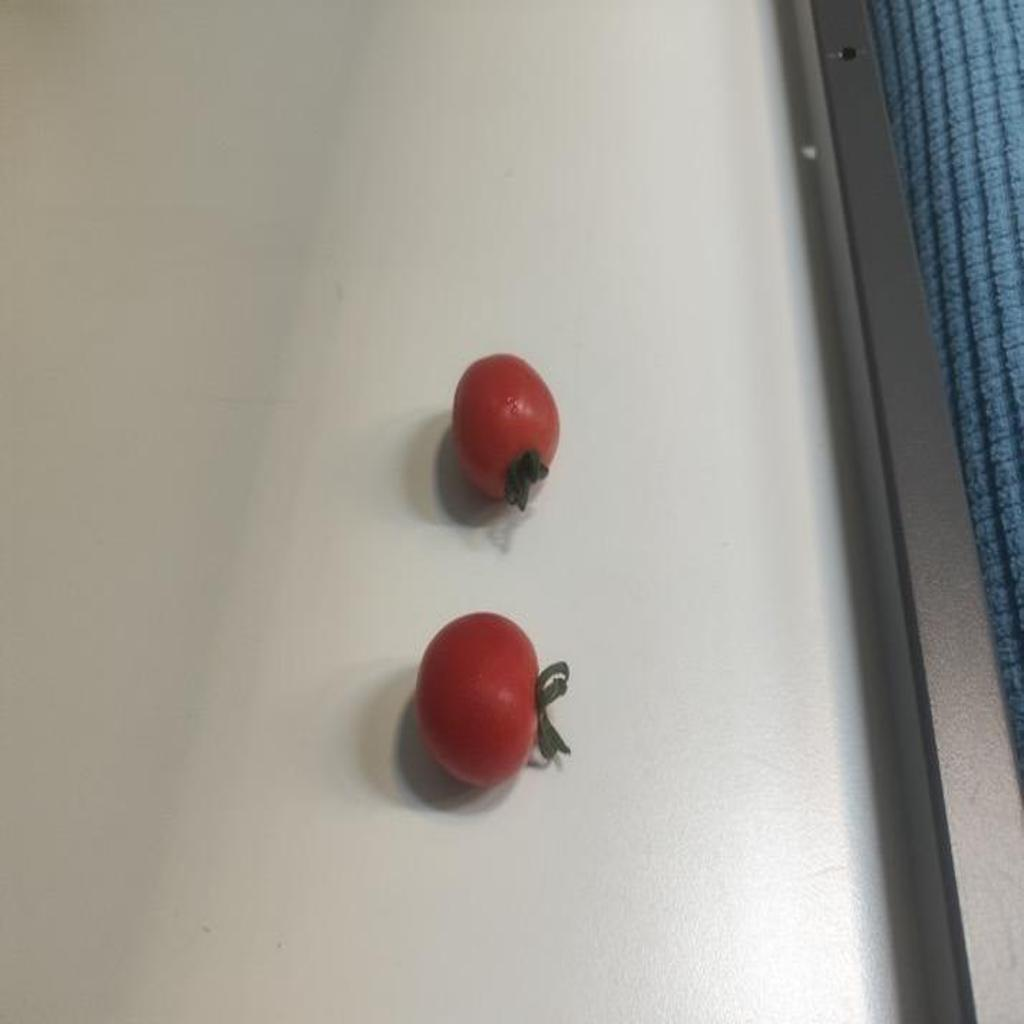tomato: (425, 609, 545, 787), (453, 349, 570, 508)
